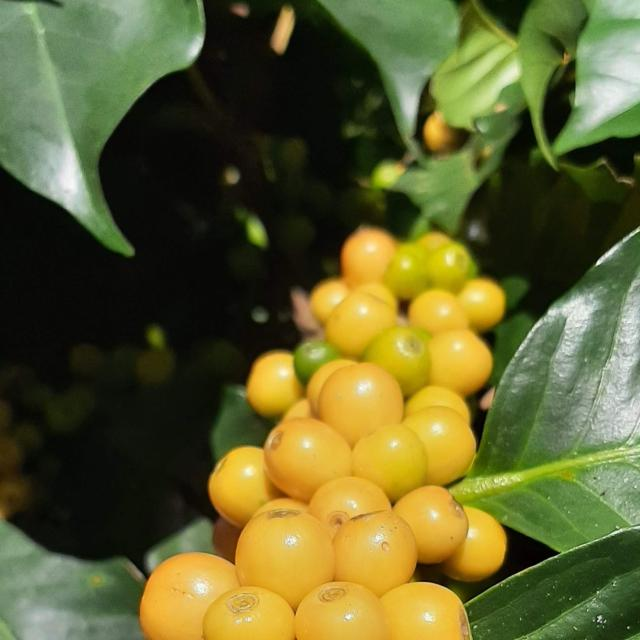green: (294, 341, 341, 386)
red: (235, 510, 335, 611), (139, 554, 239, 640), (333, 511, 418, 597), (264, 419, 352, 502), (318, 363, 404, 447), (208, 447, 284, 529), (393, 486, 469, 565), (403, 406, 477, 486), (295, 583, 389, 640), (308, 477, 392, 538), (381, 584, 472, 640), (441, 508, 508, 583), (325, 291, 397, 359), (202, 588, 295, 640), (429, 330, 494, 397), (246, 351, 303, 418), (341, 226, 397, 287), (307, 359, 357, 417), (409, 289, 470, 335), (458, 277, 507, 332), (405, 386, 471, 425), (310, 279, 351, 325), (354, 282, 398, 313), (252, 499, 308, 519), (281, 399, 313, 423)
yellow: (352, 425, 428, 503), (362, 327, 431, 397), (383, 243, 429, 300), (427, 242, 475, 293)
